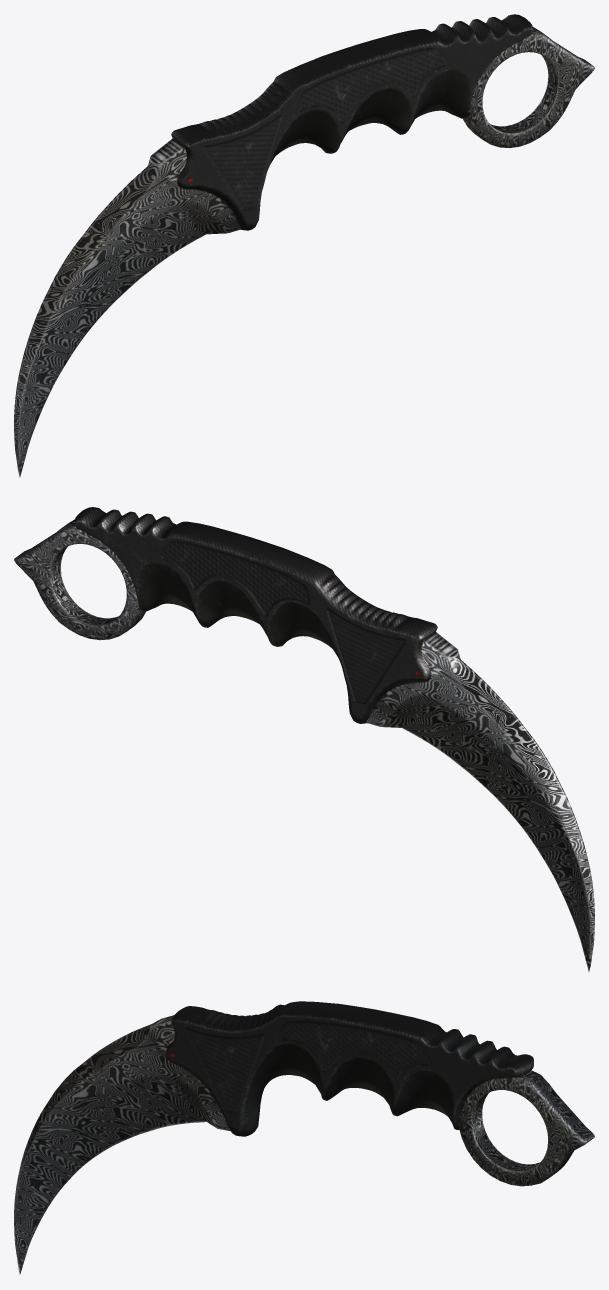
File: damascus-karambit.glb
3 views of the same model, one above another, from view 1: azimuth 30°, elevation 25°; view 2: azimuth 150°, elevation 25°; view 3: azimuth 330°, elevation 25° (orthographic).
Parts seen in each view (by area): view 1: KarambitFinal; view 2: KarambitFinal; view 3: KarambitFinal.
Boxes of the visible parts, bbox=[...] form: KarambitFinal: bbox=[14, 14, 594, 477]; KarambitFinal: bbox=[14, 507, 594, 971]; KarambitFinal: bbox=[14, 1001, 594, 1274].
Size of the model in its own units: 4.95 by 2.86 by 0.2699.
1 material, 1 textured.
